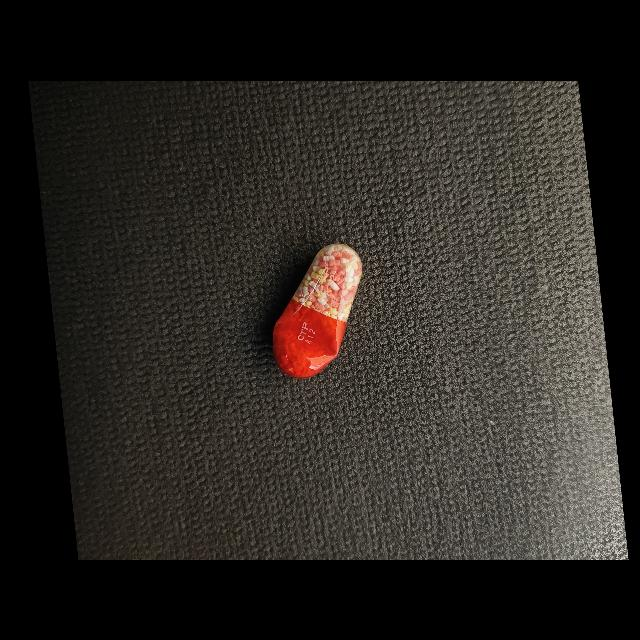Defective Capsule: (273, 243, 362, 377)
